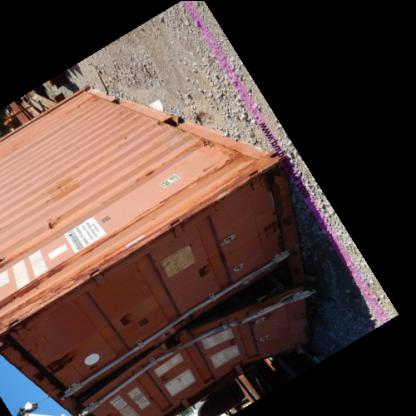Damage: (120, 250, 306, 356), (158, 146, 274, 224), (30, 344, 76, 382), (35, 212, 65, 236), (132, 162, 156, 184)
